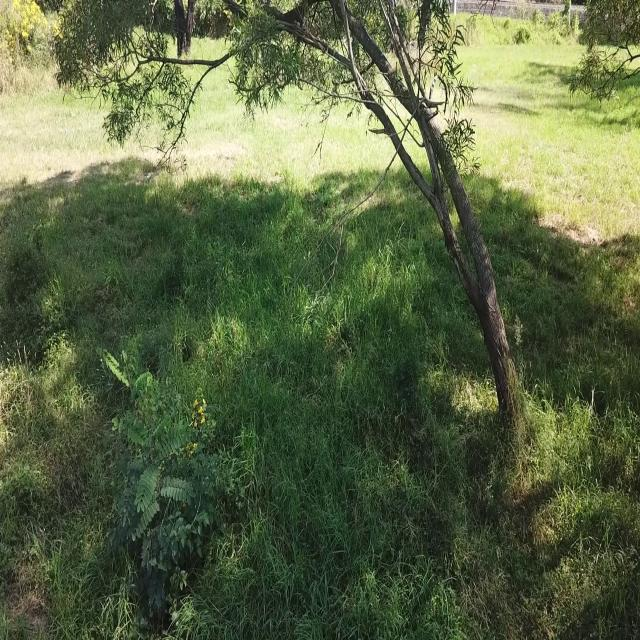Mysore-Thorn-Weed: (92, 337, 200, 610)
